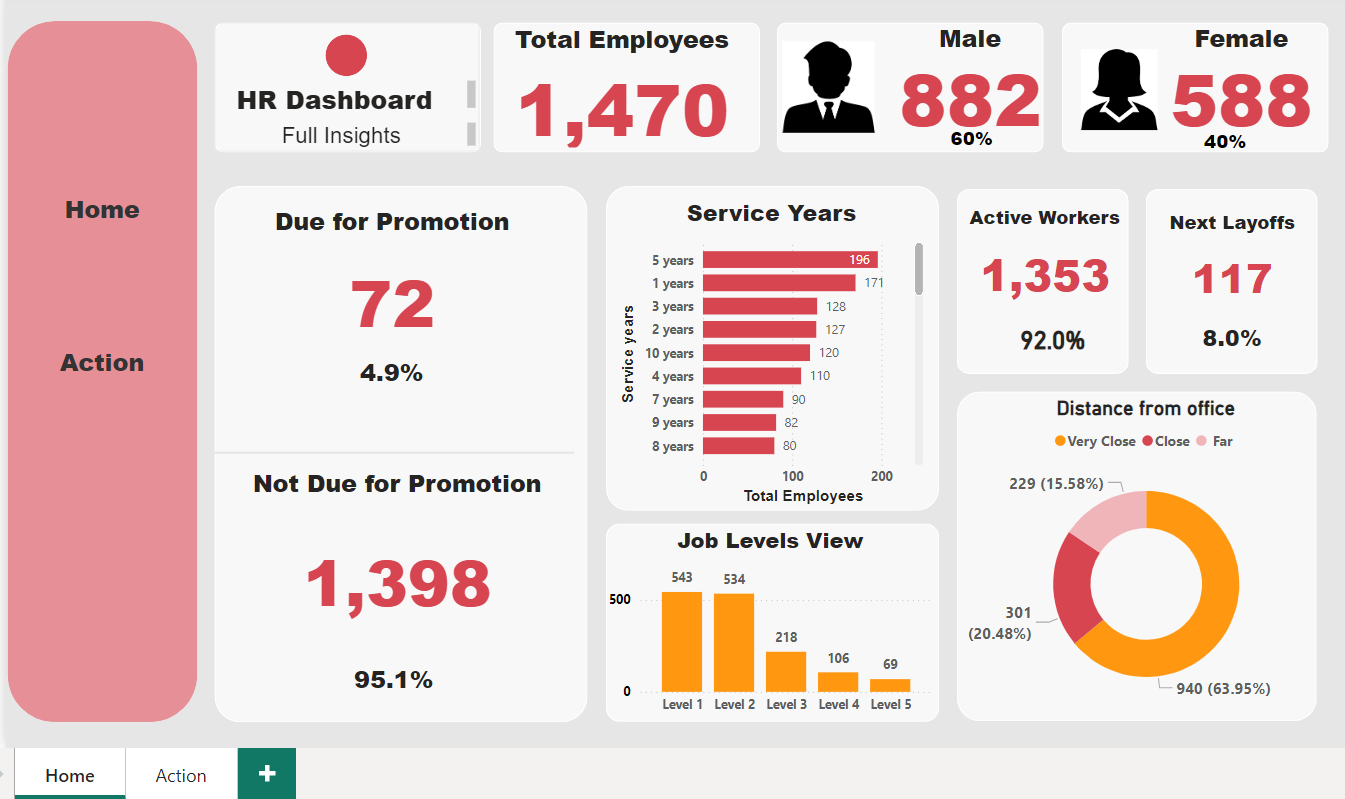

The dashboard page shown, as its layout file describes it:
{"tool":"powerbi","page":{"name":"Home","canvas":[1280,720],"ordinal":0},"visuals":[{"type":"shape","box":[198.8,27,254.5,124.1],"z":0},{"type":"shape","box":[466,27,254.5,124.1],"z":1000},{"type":"shape","box":[736.5,27,254.5,124.1],"z":2000},{"type":"shape","box":[1008.4,27,254.5,124.1],"z":3000},{"type":"shape","box":[198.8,182.9,356.3,512.2],"z":4000},{"type":"shape","box":[572.6,182.9,318.1,310.2],"z":5000},{"type":"shape","box":[572.6,505.8,318.1,189.3],"z":6000},{"type":"shape","box":[908.2,186.1,163.8,176.6],"z":7000},{"type":"shape","box":[1088,186.1,163.8,176.6],"z":8000},{"type":"shape","box":[908.2,380.2,343.6,314.9],"z":9000},{"type":"textbox","box":[257.7,117.7,195.6,33.4],"z":10000},{"type":"shape","box":[305.4,38.2,39.8,39.8],"z":11000},{"type":"card","title":"Total Employees","fields":{"Values":["All Measures.Total Emp"]},"box":[470.8,27,233.8,124.1],"z":12000},{"type":"textbox","box":[198.8,77.9,254.5,39.8],"z":13000},{"type":"card","title":"Male","fields":{"Values":["All Measures.Male"]},"box":[823.9,25.4,194.1,108.2],"z":14000},{"type":"card","title":"Female","fields":{"Values":["All Measures.Female"]},"box":[1078.4,25.4,202,108.2],"z":15000},{"type":"card","fields":{"Values":["All Measures.% male"]},"box":[804.8,77.9,233.8,124.1],"z":16000},{"type":"card","fields":{"Values":["All Measures.% Female"]},"box":[1046.6,79.5,233.8,124.1],"z":17000},{"type":"image","box":[736.5,36.6,98.6,103.4],"z":18000},{"type":"image","box":[1018,47.7,89.1,87.5],"z":19000},{"type":"card","title":"Due for Promotion","fields":{"Values":["All Measures.Due for promotion"]},"box":[225.9,200.4,284.7,149.5],"z":20000},{"type":"card","fields":{"Values":["All Measures.% Due for Promotion"]},"box":[233.8,308.6,268.8,108.2],"z":21000},{"type":"shape","box":[198.8,275.2,343.6,326.1],"z":22000},{"type":"card","title":"Not Due for Promotion","fields":{"Values":["All Measures.Not Due"]},"box":[205.2,451.7,337.2,181.3],"z":23000},{"type":"card","fields":{"Values":["All Measures.% No Due"]},"box":[259.3,602.8,221.1,105],"z":24000},{"type":"barChart","title":"Service Years","fields":{"Category":["HR Analytics Data.Service Year"],"Y":["All Measures.Total Emp"]},"box":[582.2,194.1,299,299],"z":25000},{"type":"columnChart","title":" Job Levels View","fields":{"Category":["HR Analytics Data.Job Levels"],"Y":["All Measures.Total Emp"]},"box":[570.7,506.5,319.4,189],"z":26000},{"type":"card","title":"Active Workers","fields":{"Values":["All Measures.On service"]},"box":[913,200.4,159.1,108.2],"z":27000},{"type":"card","fields":{"Values":["All Measures.% on service"]},"box":[935.3,299,127.2,60.4],"z":28000},{"type":"card","title":"Next Layoffs","fields":{"Values":["All Measures.layoffs"]},"box":[1100.1,204.8,141.8,104.6],"z":29000},{"type":"card","fields":{"Values":["All Measures.% Layoff"]},"box":[1123,303.8,95.4,50.9],"z":30000},{"type":"donutChart","title":" Distance from office","fields":{"Category":["HR Analytics Data.Distance Status"],"Y":["All Measures.Total Emp"]},"box":[916.2,383.3,343.6,307],"z":31000},{"type":"actionButton","box":[52.5,214.7,100.2,44.5],"z":32000},{"type":"actionButton","box":[52.5,354.7,100.2,44.5],"z":33000},{"type":"shape","box":[1.6,25.4,181.3,669.6],"z":34000},{"type":"actionButton","box":[41.4,182.9,100.2,44.5],"z":35000},{"type":"actionButton","box":[41.4,329.3,100.2,44.5],"z":36000}]}

Visuals, with their boxes on the page's 1280x720 design canvas (x1, y1, x2, y2). These are canvas units, not pixel positions in the 1345x799 screenshot, which may show the page scaled, cropped or inside an application window:
shape: <box>199,27,453,151</box>
shape: <box>466,27,720,151</box>
shape: <box>736,27,991,151</box>
shape: <box>1008,27,1263,151</box>
shape: <box>199,183,555,695</box>
shape: <box>573,183,891,493</box>
shape: <box>573,506,891,695</box>
shape: <box>908,186,1072,363</box>
shape: <box>1088,186,1252,363</box>
shape: <box>908,380,1252,695</box>
textbox: <box>258,118,453,151</box>
shape: <box>305,38,345,78</box>
"Total Employees" card: <box>471,27,705,151</box>
textbox: <box>199,78,453,118</box>
"Male" card: <box>824,25,1018,134</box>
"Female" card: <box>1078,25,1280,134</box>
card - All Measures.% male: <box>805,78,1039,202</box>
card - All Measures.% Female: <box>1047,80,1280,204</box>
image: <box>736,37,835,140</box>
image: <box>1018,48,1107,135</box>
"Due for Promotion" card: <box>226,200,511,350</box>
card - All Measures.% Due for Promotion: <box>234,309,503,417</box>
shape: <box>199,275,542,601</box>
"Not Due for Promotion" card: <box>205,452,542,633</box>
card - All Measures.% No Due: <box>259,603,480,708</box>
"Service Years" barChart: <box>582,194,881,493</box>
" Job Levels View" columnChart: <box>571,506,890,696</box>
"Active Workers" card: <box>913,200,1072,309</box>
card - All Measures.% on service: <box>935,299,1062,359</box>
"Next Layoffs" card: <box>1100,205,1242,309</box>
card - All Measures.% Layoff: <box>1123,304,1218,355</box>
" Distance from office" donutChart: <box>916,383,1260,690</box>
actionButton: <box>52,215,153,259</box>
actionButton: <box>52,355,153,399</box>
shape: <box>2,25,183,695</box>
actionButton: <box>41,183,142,227</box>
actionButton: <box>41,329,142,374</box>
